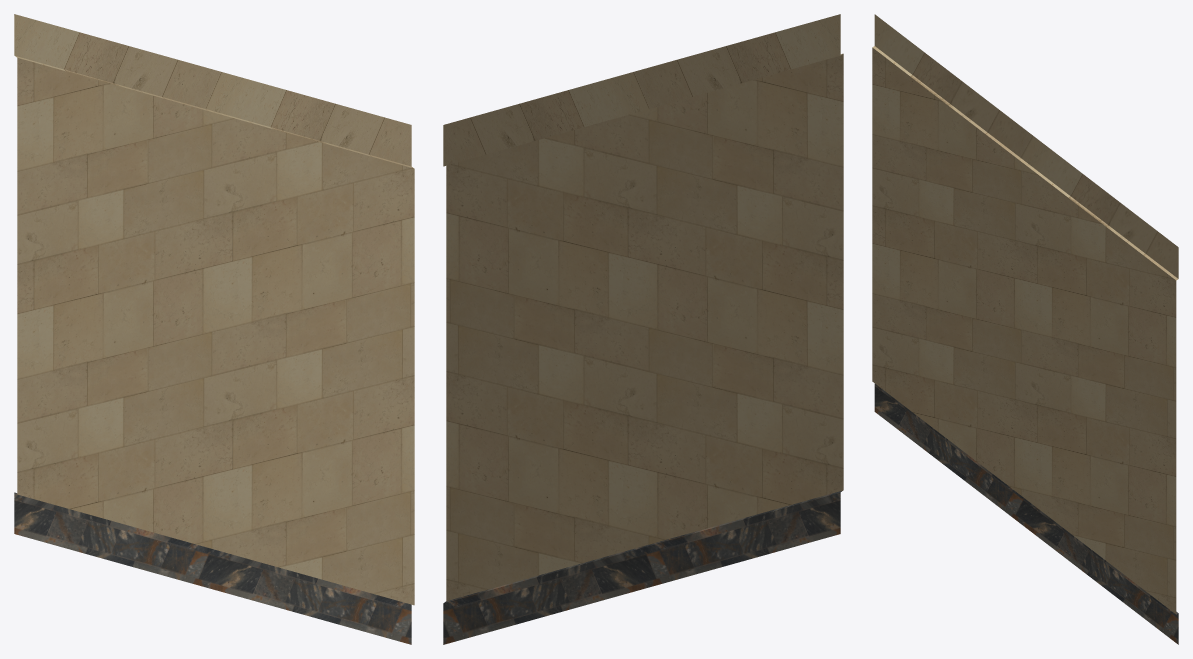
The model's file is SlopedWall_01_5x4.fbx.
3 views of the same model, side by side, from view 1: azimuth 30°, elevation 25°; view 2: azimuth 150°, elevation 25°; view 3: azimuth 330°, elevation 25° (orthographic). The views are drawn at different scales.
Visible parts, largest first — view 1: Cube.137; view 2: Cube.137; view 3: Cube.137.
Boxes of the visible parts, bbox=[...] form: Cube.137: bbox=[14, 14, 414, 644]; Cube.137: bbox=[443, 14, 843, 644]; Cube.137: bbox=[872, 14, 1178, 644].
Bounding box in the file's own units: 400 × 700 × 5.
